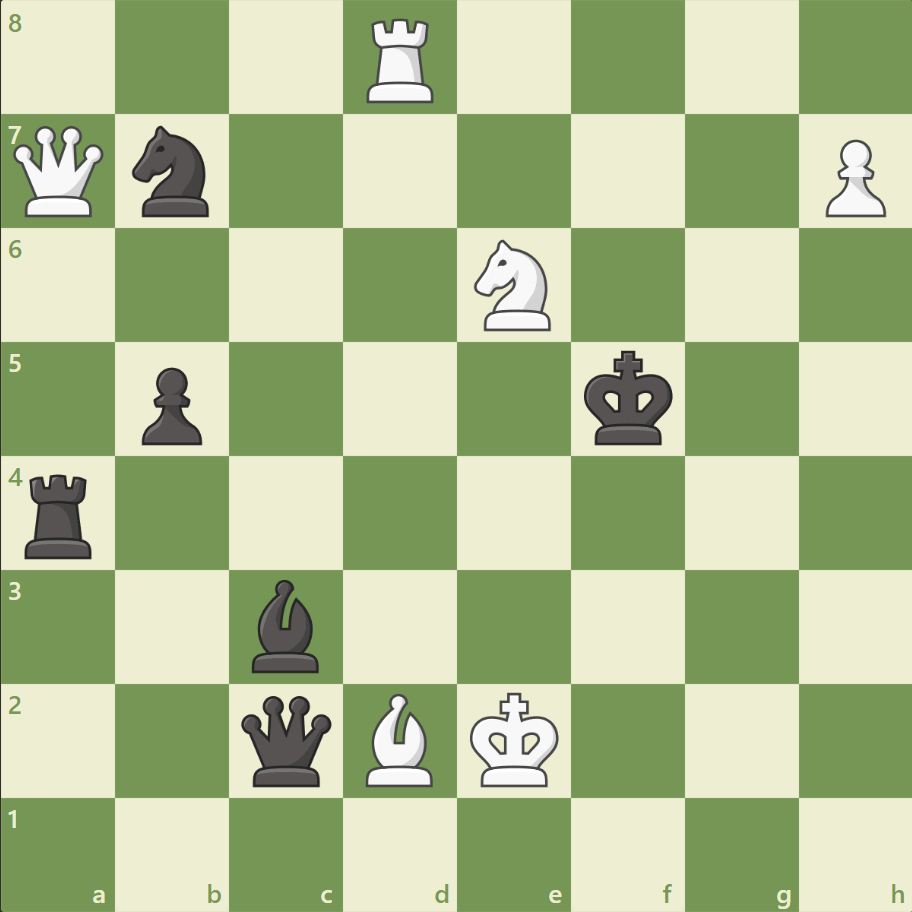B: (365, 693, 443, 796)
K: (469, 694, 567, 795)
N: (473, 240, 562, 341)
P: (823, 135, 895, 220)
Q: (14, 126, 115, 228)
R: (365, 13, 443, 113)
b: (251, 579, 330, 683)
k: (582, 353, 680, 455)
n: (133, 127, 222, 228)
p: (142, 362, 214, 447)
q: (241, 694, 342, 795)
r: (24, 467, 103, 567)
